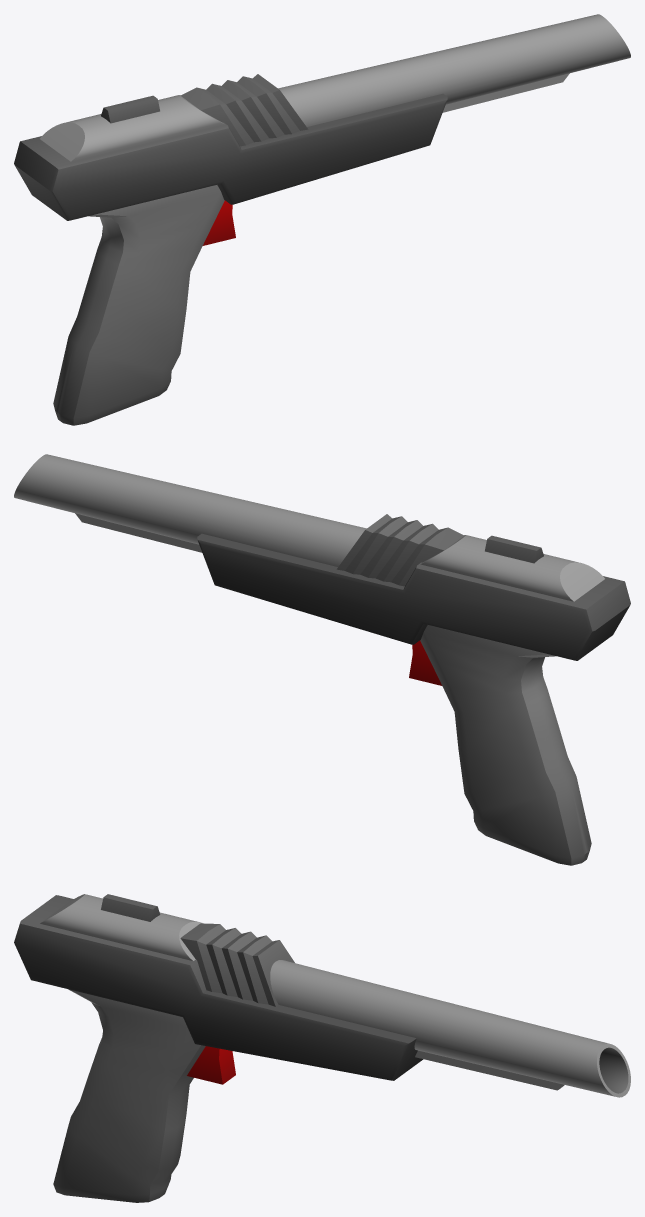
File: ToyGun.fbx
The picture shows the model from 3 angles, top to bottom: view 1: azimuth 30°, elevation 25°; view 2: azimuth 150°, elevation 25°; view 3: azimuth 330°, elevation 25°; orthographic projection.
Parts seen in each view (by area): view 1: ToyGun; view 2: ToyGun; view 3: ToyGun.
Boxes of the visible parts, x1,y1,x2,y2 form: ToyGun: (14, 14, 630, 425); ToyGun: (14, 454, 630, 865); ToyGun: (14, 894, 630, 1202).
Size of the model in its own units: 0.3394 by 0.1662 by 0.0396.
